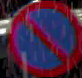No Stopping: (5, 0, 81, 77)
